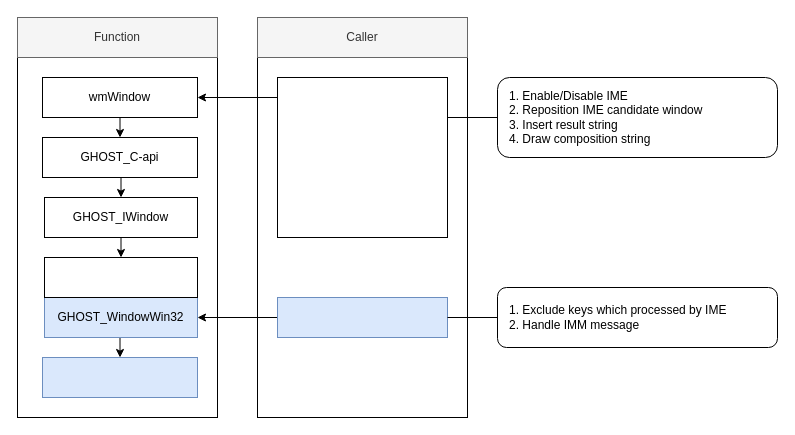
Some shapes in this 795 by 435 pixel diagram are drawn without their labels. The shapes that lost their labels are listed below. From the top down, each one's centre as x and y in pixels, then its label:
At [362,157]: "interface_handler.cc editfont.cc text_ops.cc console_ops.cc ...".
At [121,277]: "GHOST_Window".
At [362,317]: "GHOST_SystemWin32".
At [120,377]: "GHOST_ImeWin32".
